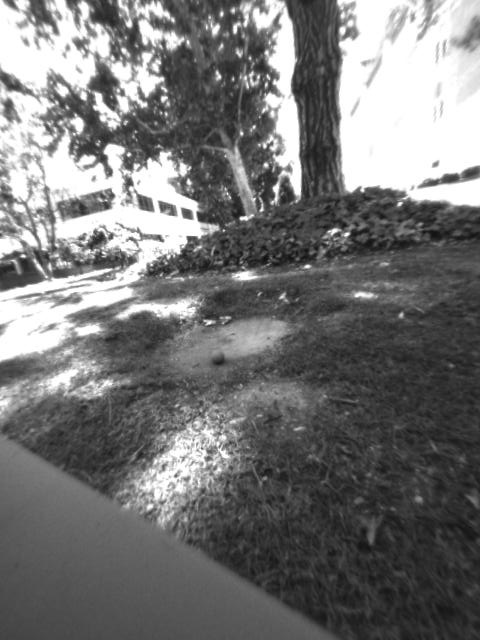dogtoy: (201, 342, 240, 374)
